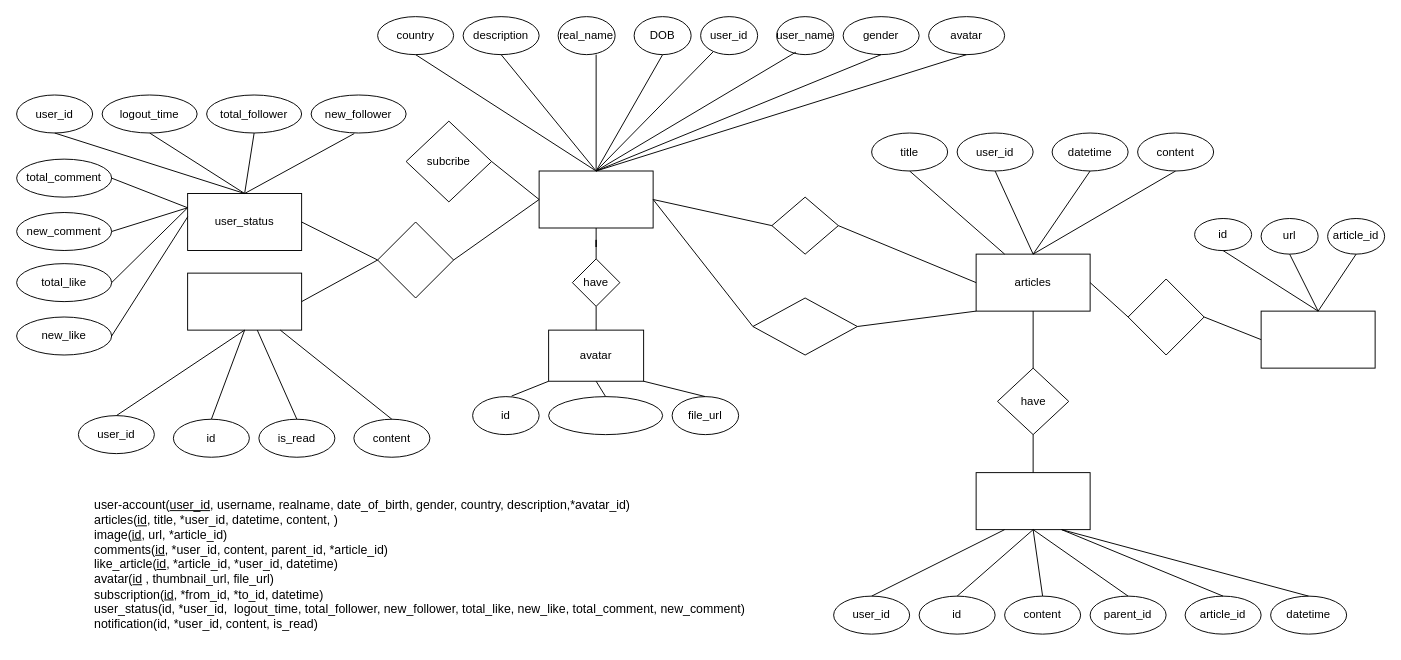
Some shapes in this 1401 by 660 pixel diagram are drawn without their labels. The box of each missing label's shape, as (x1, y1, x2, y2) in pixels:
autthentication: (752, 297, 857, 355)
belong: (377, 221, 454, 298)
comments: (975, 472, 1090, 530)
image: (1260, 310, 1375, 368)
like: (771, 196, 838, 254)
notification: (187, 272, 302, 330)
thumbnail_url: (548, 396, 663, 435)
upload: (1127, 278, 1204, 355)
user-account: (538, 170, 653, 228)
